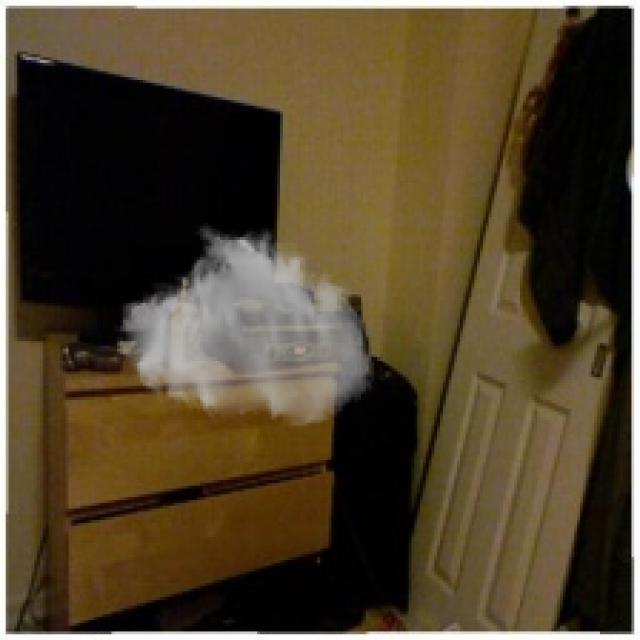Smoke: (117, 223, 377, 428)
